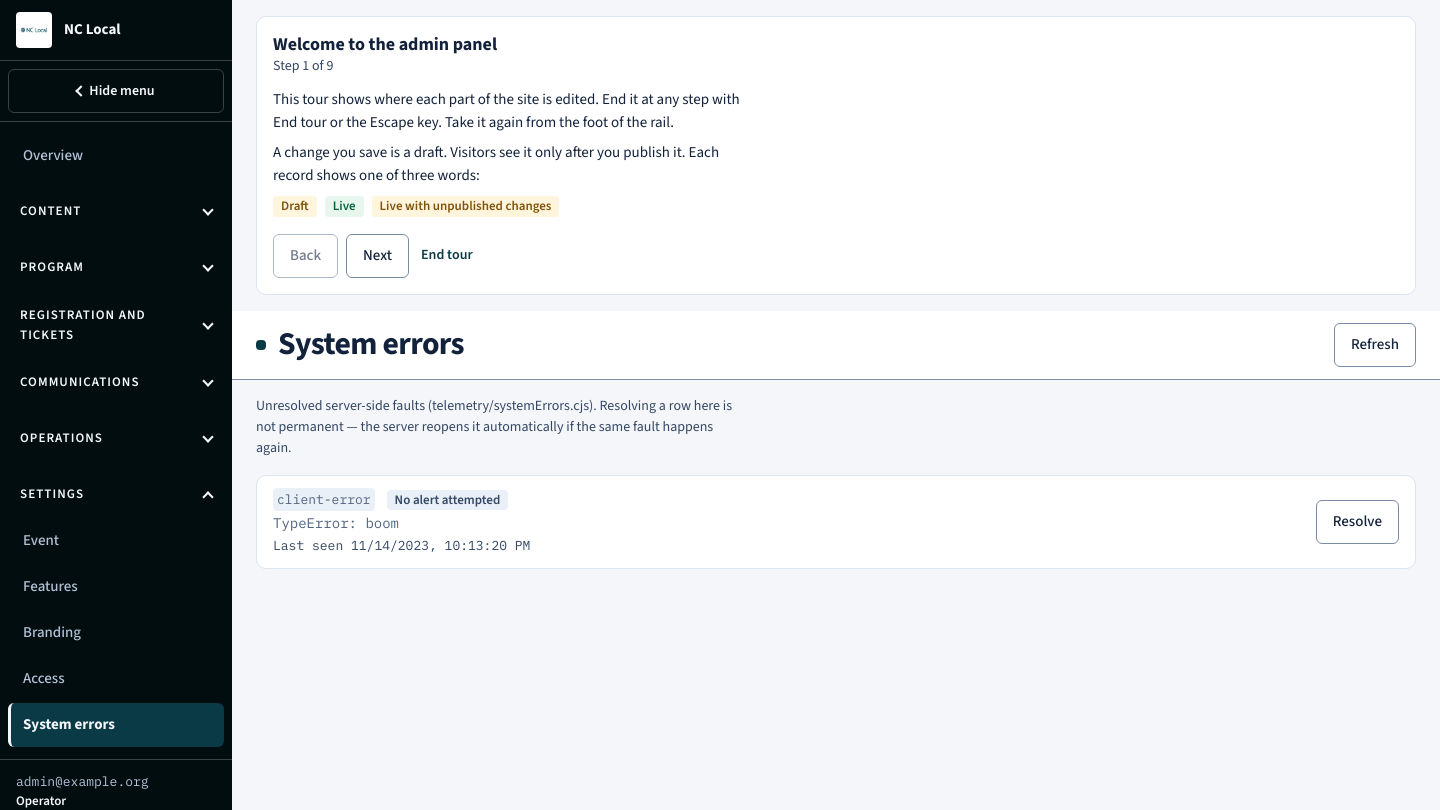
Test: manual refresh › refetches the list on demand
Check: the text "TypeError: boom" is shown, box [273, 514, 399, 532]
Click the button "Refresh": (1375,345) [1334, 323, 1416, 367]
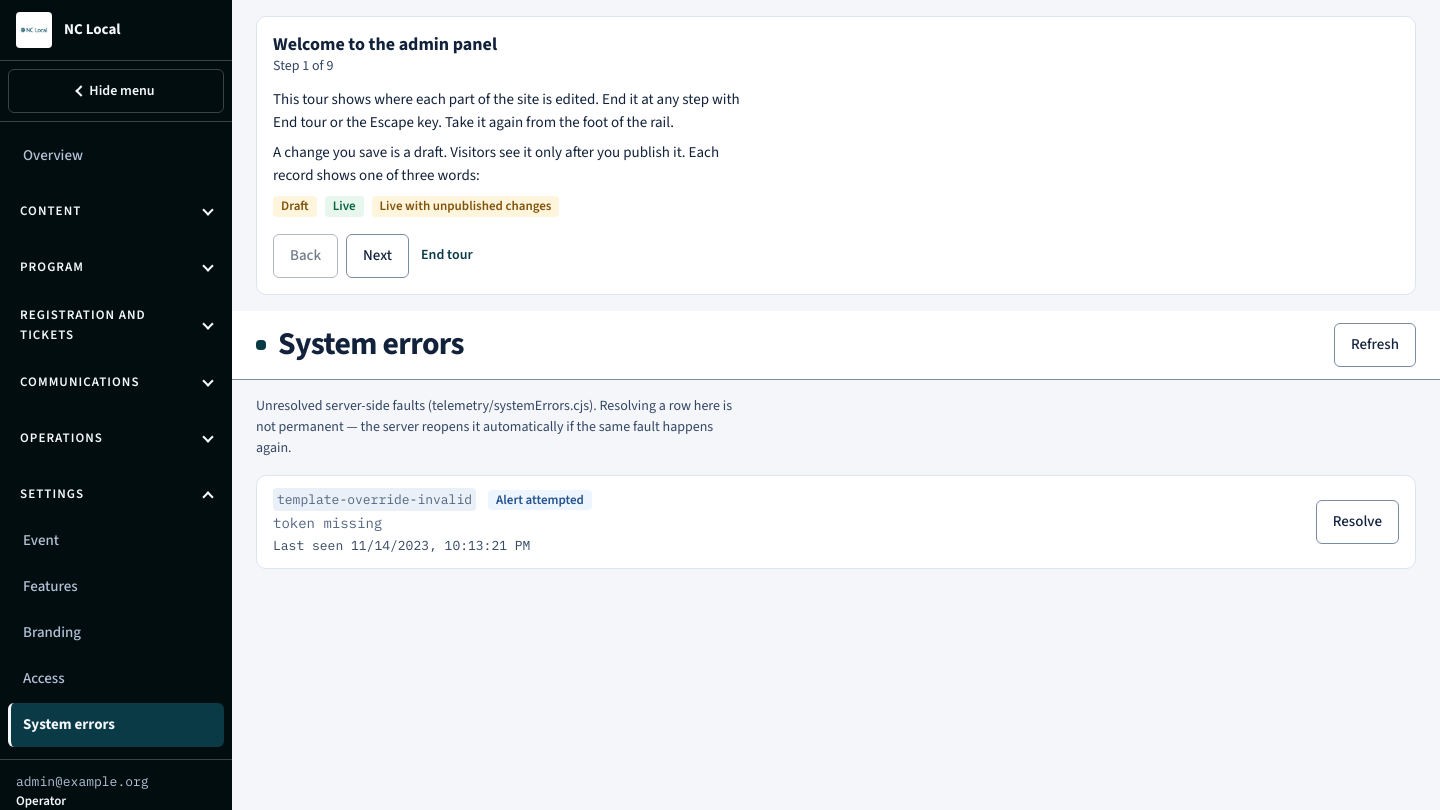
Check: the text "token missing" is shown, box [273, 514, 382, 532]
Check: the text "TypeError: boom" is gone
